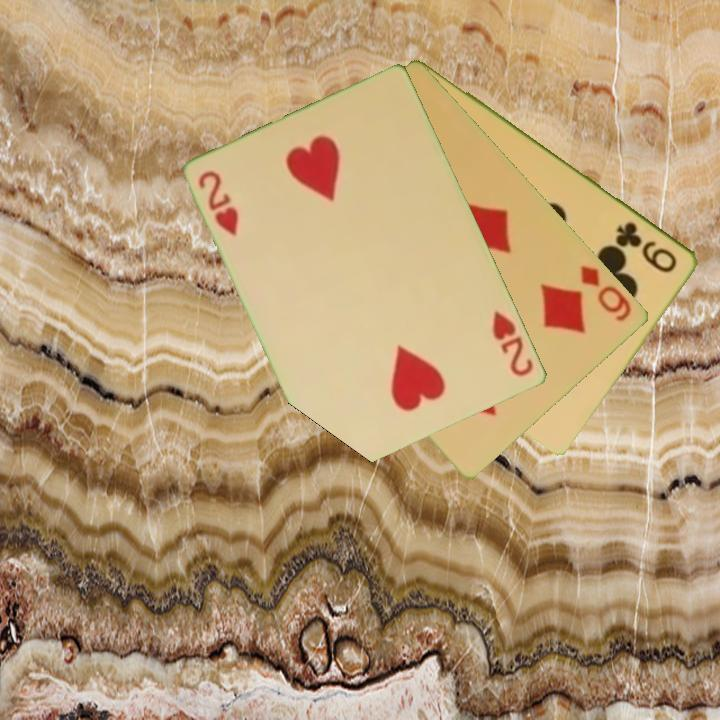2h: (489, 307, 537, 380), (195, 167, 243, 240)
6d: (577, 261, 636, 324)
9c: (613, 218, 681, 276)
